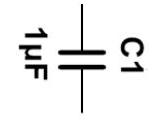Capacitor: (54, 34, 111, 82)
